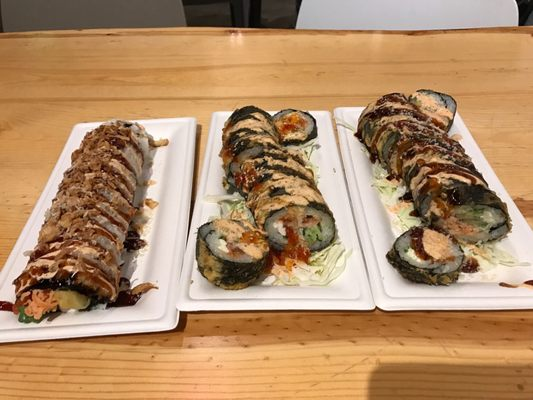soup: (214, 105, 341, 281)
